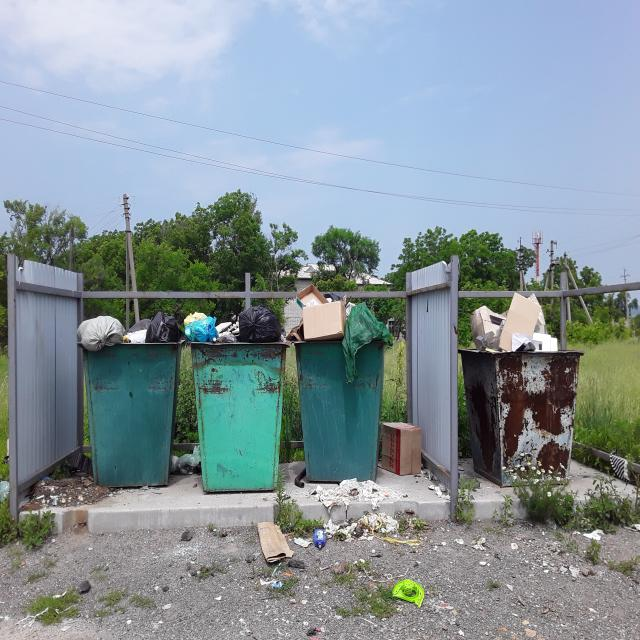bin: (463, 345, 588, 495), (191, 345, 292, 490), (78, 340, 180, 482), (296, 337, 389, 480)
trash: (79, 297, 181, 341), (301, 286, 388, 334), (187, 308, 281, 340)
